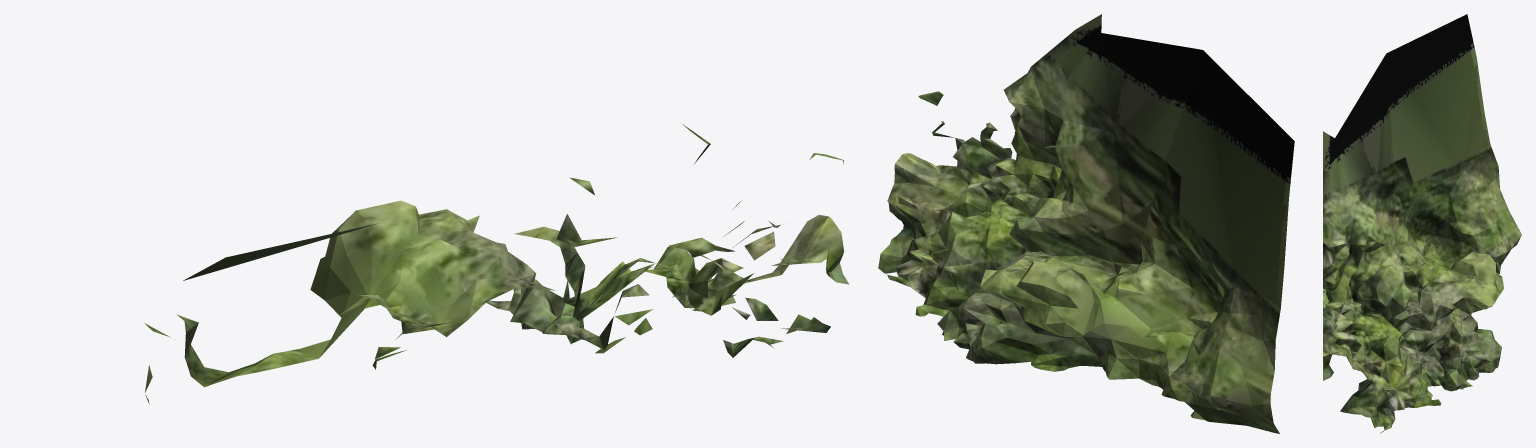
The picture shows the model from 3 angles, left to right: view 1: azimuth 30°, elevation 25°; view 2: azimuth 150°, elevation 25°; view 3: azimuth 270°, elevation 25°; orthographic projection. The views are drawn at different scales.
Size of the model in its own units: 52.22 by 32.43 by 23.42.
Materials: 2 (2 with a texture image).
